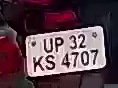0: (80, 50, 91, 67)
2: (76, 30, 89, 49)
3: (66, 32, 79, 53)
4: (61, 52, 71, 70)
7: (90, 47, 99, 66), (72, 51, 80, 70)
K: (28, 55, 46, 71)
P: (55, 35, 66, 53)
S: (44, 54, 57, 71)
U: (40, 36, 54, 54)
